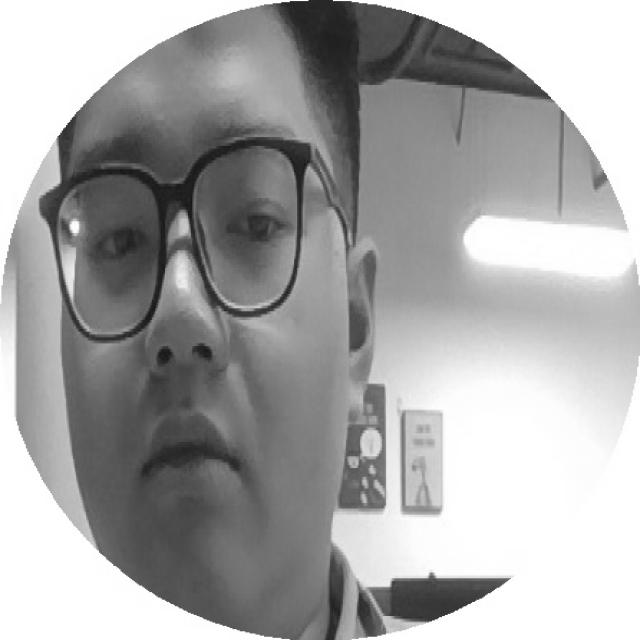real: (50, 16, 348, 619), (41, 130, 311, 268)
